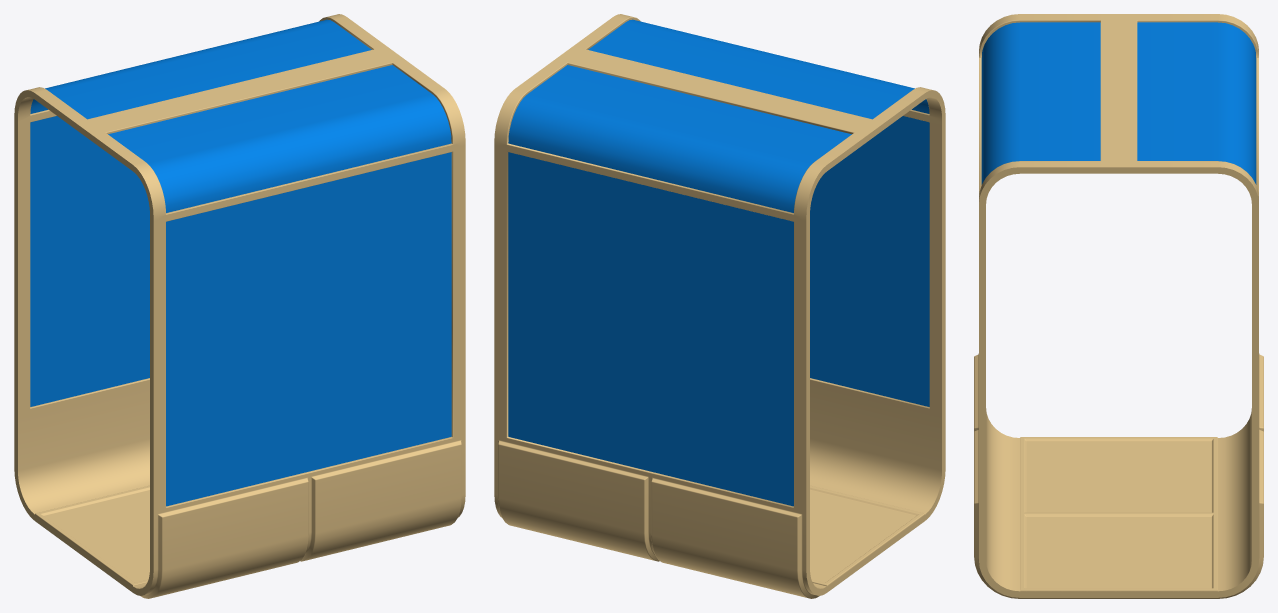
File: Corridor01.fbx
3 renders of one model, left to right at view 1: azimuth 30°, elevation 25°; view 2: azimuth 150°, elevation 25°; view 3: azimuth 270°, elevation 25°, orthographic.
Visible parts, largest first — view 1: SM_Corridor01; view 2: SM_Corridor01; view 3: SM_Corridor01.
Part boxes in pixels (<box>): SM_Corridor01: <box>14,14,465,598</box>; SM_Corridor01: <box>494,14,945,598</box>; SM_Corridor01: <box>974,14,1263,598</box>.
Size of the model in its own units: 2 by 2.65 by 1.6.
